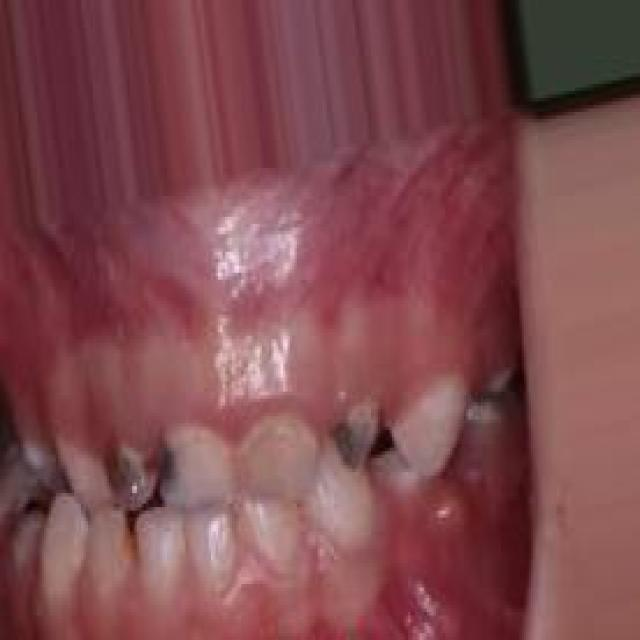caries: (94, 437, 177, 520), (321, 392, 389, 479), (11, 446, 70, 516)
